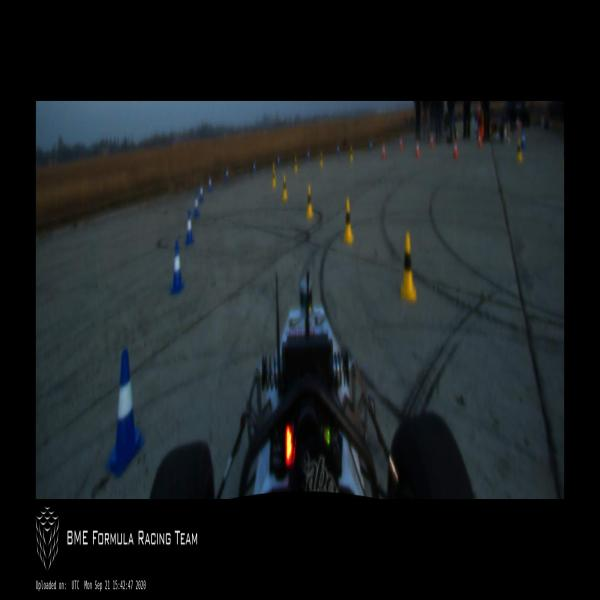blue_cone: (106, 351, 144, 474), (170, 242, 184, 294), (185, 211, 194, 245), (199, 182, 204, 202), (194, 194, 198, 218), (521, 130, 526, 148), (208, 174, 212, 192), (225, 167, 229, 182), (369, 138, 372, 153), (253, 161, 256, 174), (337, 144, 340, 157), (307, 148, 310, 161), (277, 156, 280, 167)
orange_cone: (452, 140, 458, 160), (415, 138, 420, 158), (382, 141, 386, 159), (478, 131, 482, 149), (398, 136, 402, 152), (430, 132, 434, 148)
yellow_cone: (400, 235, 416, 302), (344, 199, 353, 245), (306, 186, 313, 218), (516, 138, 523, 164), (282, 175, 288, 200), (272, 169, 276, 189), (294, 156, 298, 171), (350, 146, 353, 162), (320, 151, 322, 169)
